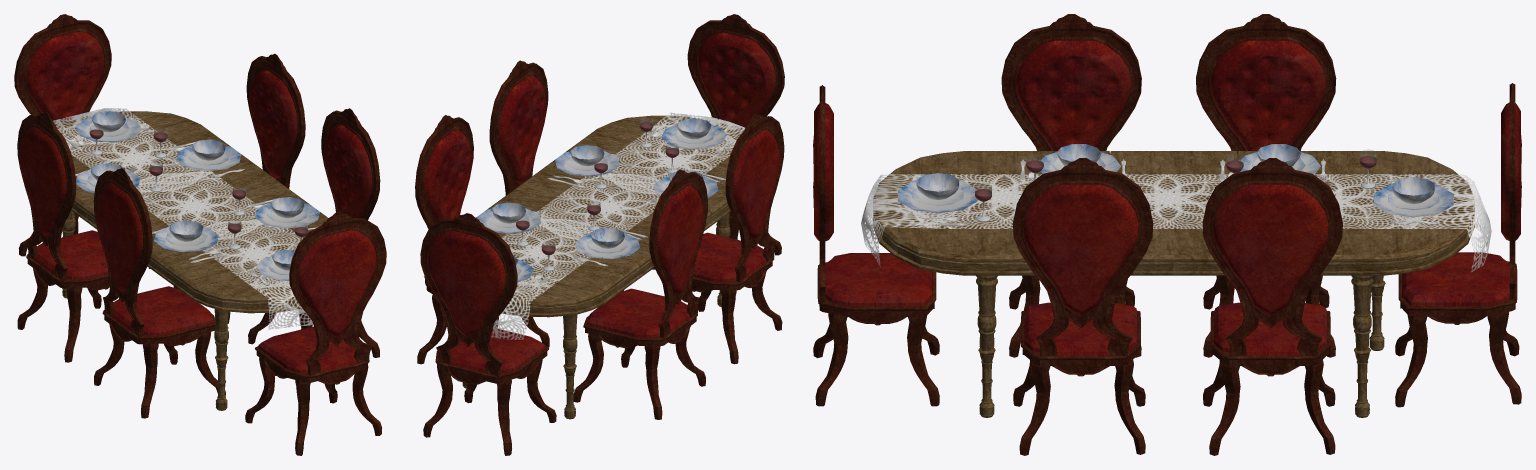
Rendered from dining_table.glb.
The picture shows the model from 3 angles, left to right: view 1: azimuth 30°, elevation 25°; view 2: azimuth 150°, elevation 25°; view 3: azimuth 270°, elevation 25°; orthographic projection. The views are drawn at different scales.
Parts seen in each view (by area): view 1: Chair_pCube3_pCube3 (×6), pCube2, TableCloth, plate (×5), pCylinder10 (×3), Bowl (×4), pCylinder9 (×3), pCylinder11, pCylinder8, pCylinder6; view 2: Chair_pCube3_pCube3 (×6), pCube2, TableCloth, plate (×5), pCylinder10 (×4), pCylinder9 (×3), Bowl (×4), pCylinder2, pCylinder8, pCylinder6; view 3: Chair_pCube3_pCube3 (×6), pCube2, TableCloth, pCylinder10 (×3), pCylinder9 (×3), plate (×2), pCylinder12, pCylinder13, pCylinder6 (×2), Bowl (×2), pCylinder8, pCylinder2.
Part boxes in pixels (x1,y1,x2,y2): Chair_pCube3_pCube3 (×6): [14, 14, 386, 384]; pCube2: [56, 111, 327, 313]; TableCloth: [53, 108, 313, 329]; plate (×5): [75, 117, 319, 252]; pCylinder10 (×3): [64, 287, 381, 435]; Bowl (×4): [91, 111, 304, 241]; pCylinder9 (×3): [17, 269, 310, 455]; pCylinder11: [214, 309, 228, 410]; pCylinder8: [245, 357, 274, 423]; pCylinder6: [195, 332, 225, 395]; Chair_pCube3_pCube3 (×6): [415, 14, 784, 384]; pCube2: [424, 115, 743, 317]; TableCloth: [444, 112, 745, 339]; plate (×5): [476, 124, 726, 258]; pCylinder10 (×4): [417, 273, 782, 455]; pCylinder9 (×3): [423, 290, 738, 437]; Bowl (×4): [492, 118, 711, 248]; pCylinder2: [563, 314, 577, 419]; pCylinder8: [573, 334, 603, 402]; pCylinder6: [527, 359, 556, 422]; Chair_pCube3_pCube3 (×6): [813, 14, 1521, 376]; pCube2: [873, 151, 1474, 275]; TableCloth: [861, 174, 1491, 271]; pCylinder10 (×3): [815, 313, 1335, 454]; pCylinder9 (×3): [1019, 312, 1521, 455]; plate (×2): [898, 180, 1453, 217]; pCylinder12: [976, 275, 997, 417]; pCylinder13: [1351, 275, 1373, 417]; pCylinder6 (×2): [907, 275, 1040, 406]; Bowl (×2): [916, 173, 1434, 204]; pCylinder8: [1395, 315, 1427, 407]; pCylinder2: [1369, 275, 1385, 350].
Size of the model in its own units: 1.53 by 1.38 by 3.01.
Materials: 7 (7 with a texture image).
